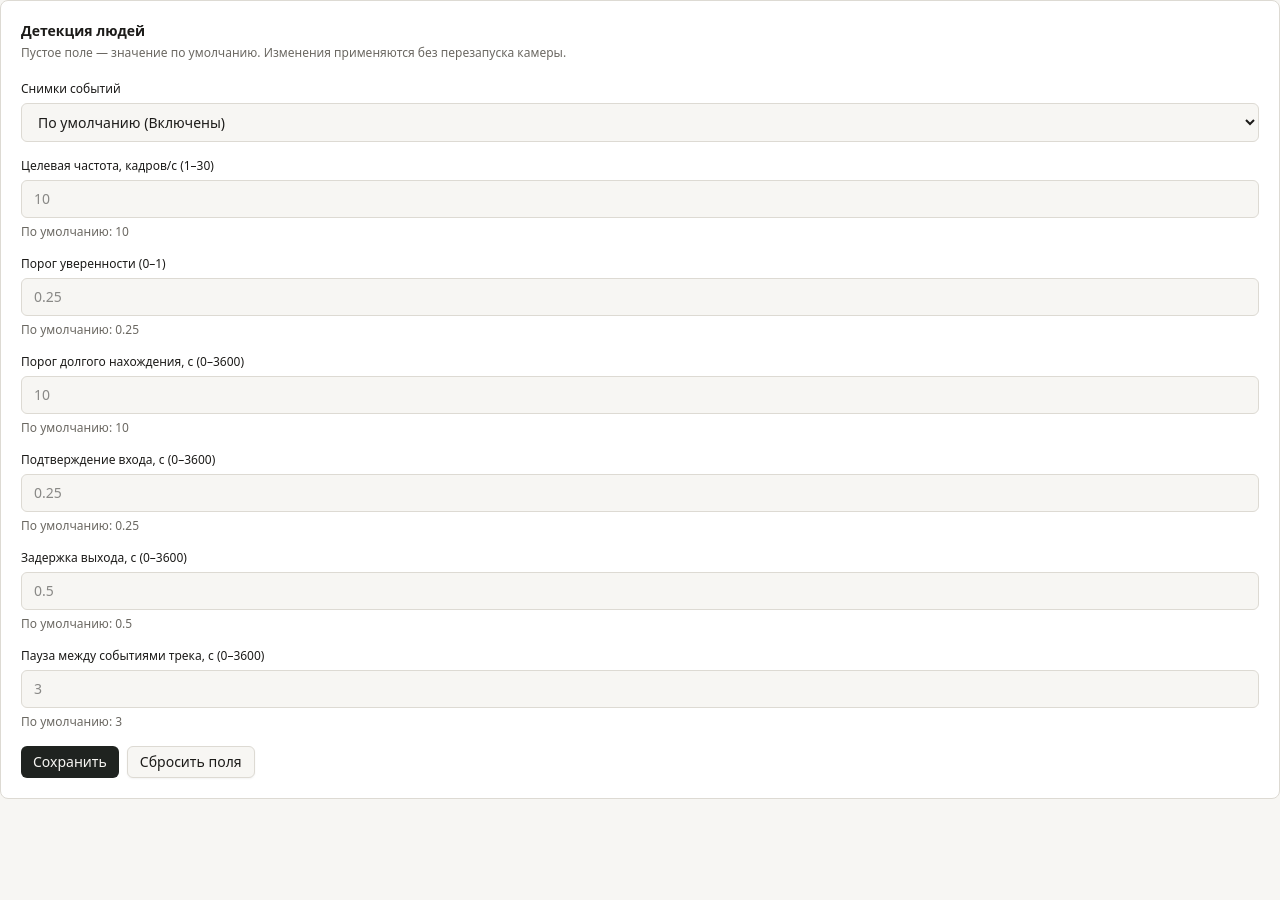
Test: saves actual number-input values and shows confirmation
The image size is (1280, 900).
In the number field labelled "Целевая частота, кадров/с (1–30)": point(640, 199) x1=21 y1=180 x2=1259 y2=218, type "4"
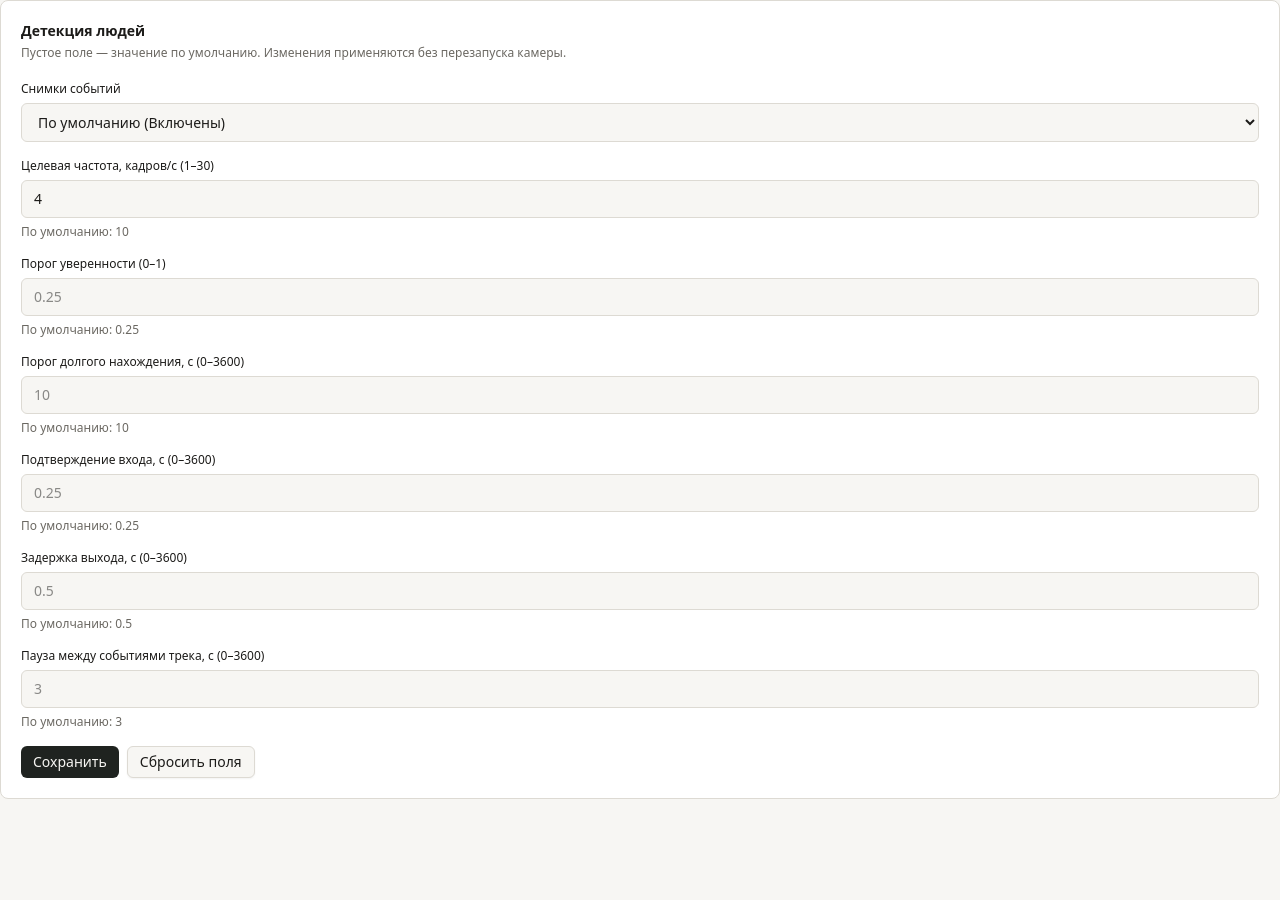
In the number field with id "confidence-a": point(640, 297) x1=21 y1=278 x2=1259 y2=316, type "0.7"
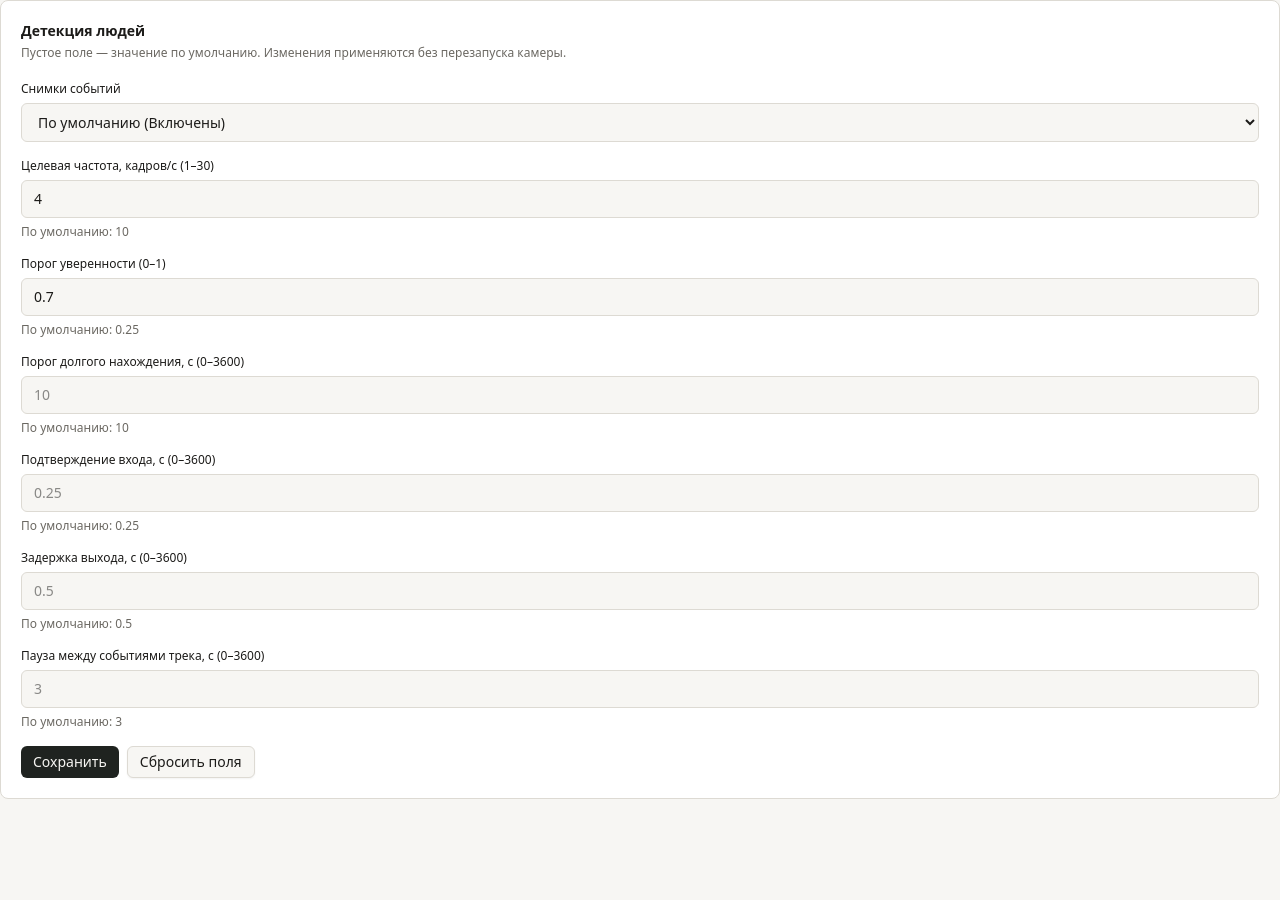
Submit the form
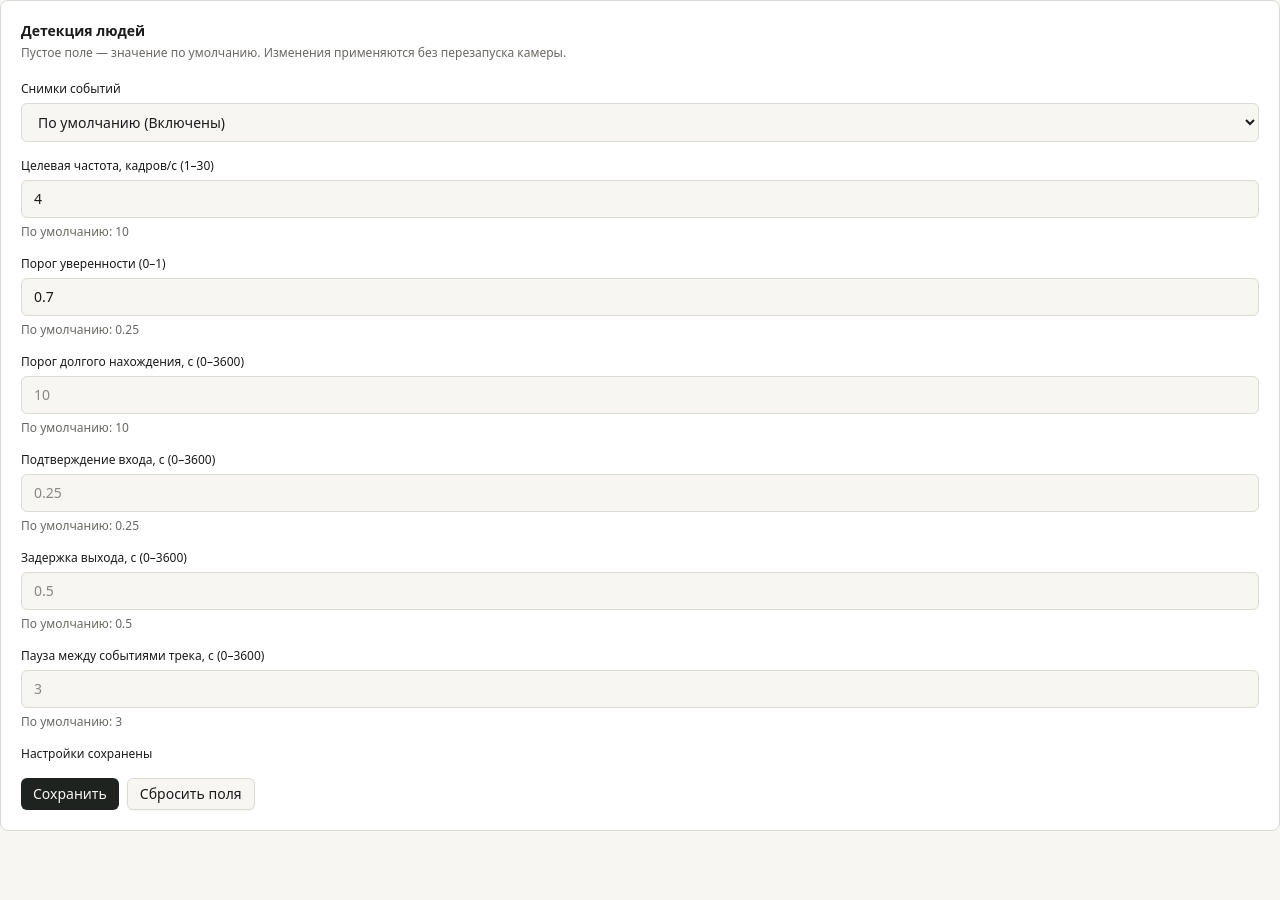
Expected: the text "Настройки сохранены" is shown, x1=21 y1=745 x2=152 y2=762
Replace the text in the number field with id "fps-a" with "5": point(640, 199) x1=21 y1=180 x2=1259 y2=218
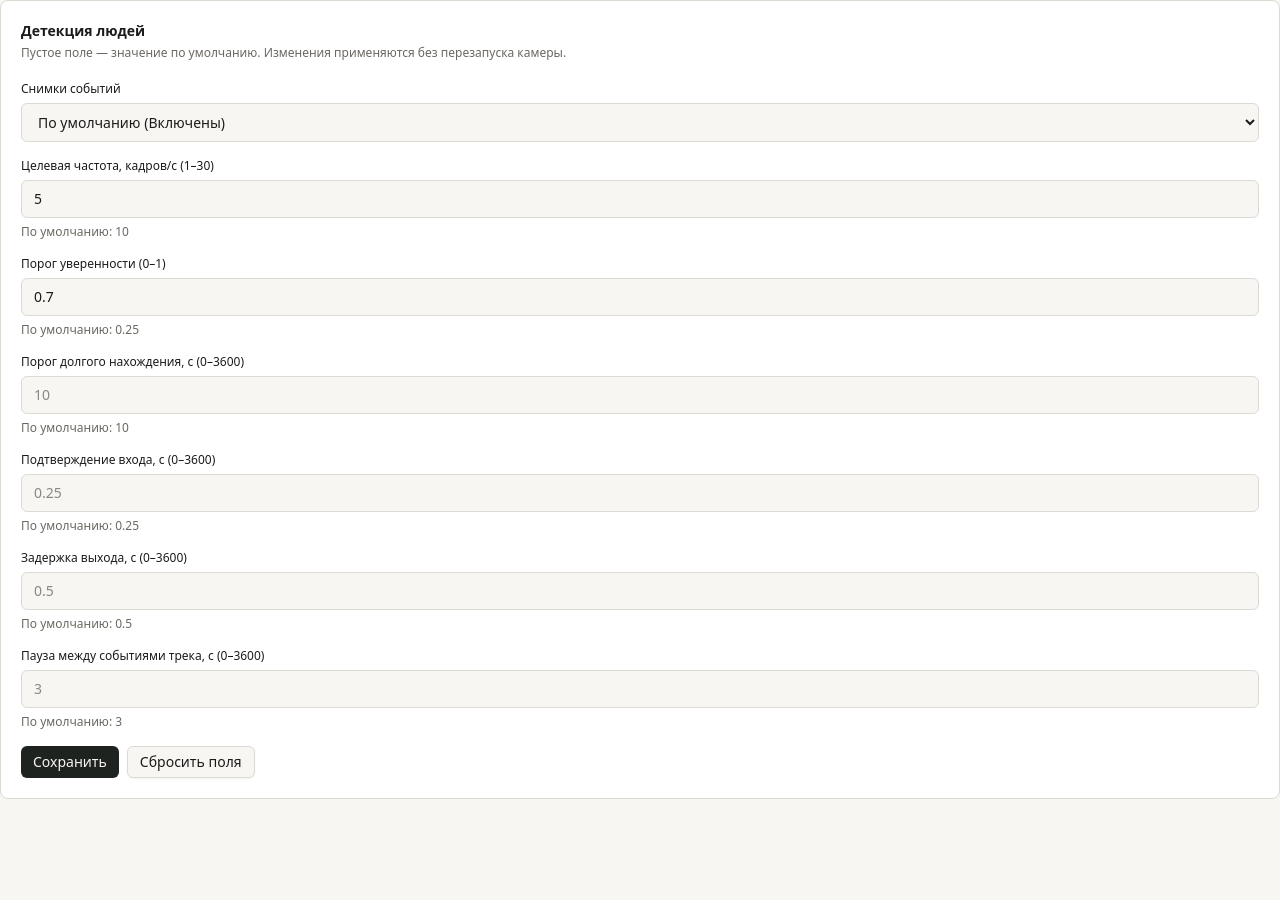
Expected: the text "Настройки сохранены" is gone
